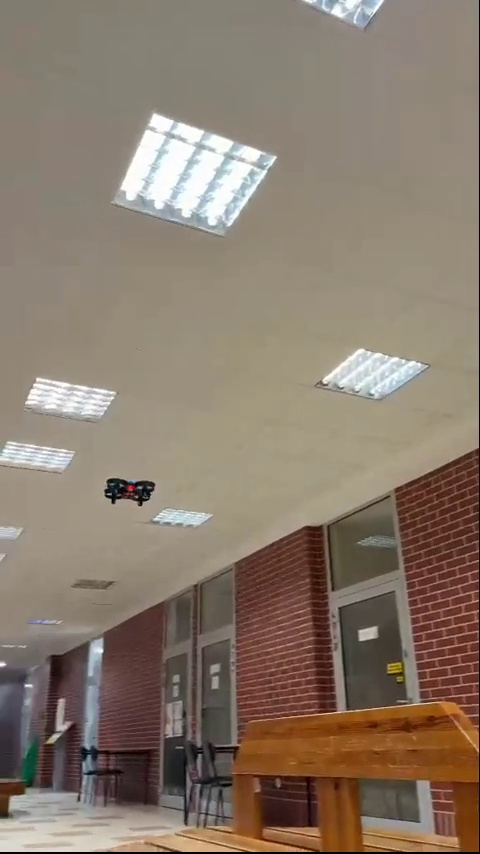drone: (101, 476, 164, 506)
